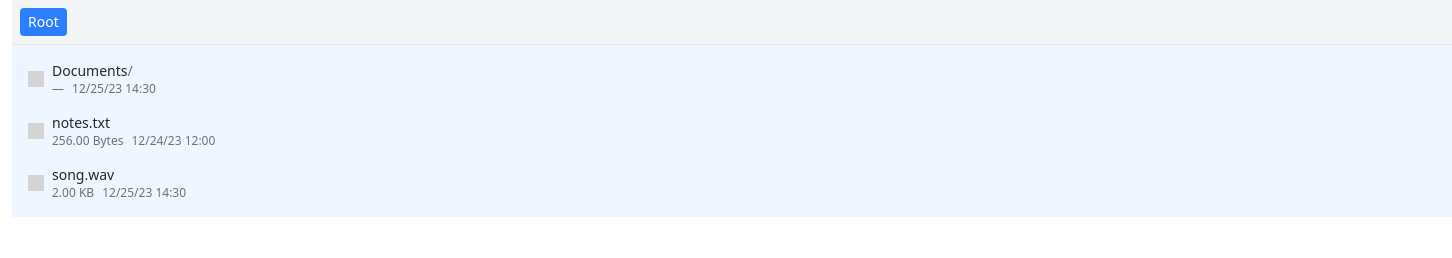
Test: DirectoryPane › shows context menu on right-click
Right-click the text "song.wav": (83, 174) [52,165,114,184]
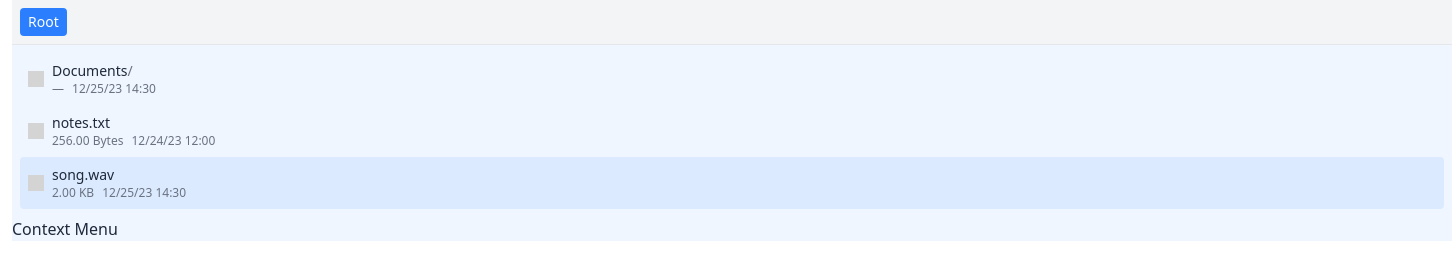
Result: the text "Context Menu" is shown at [12,218,118,240]
